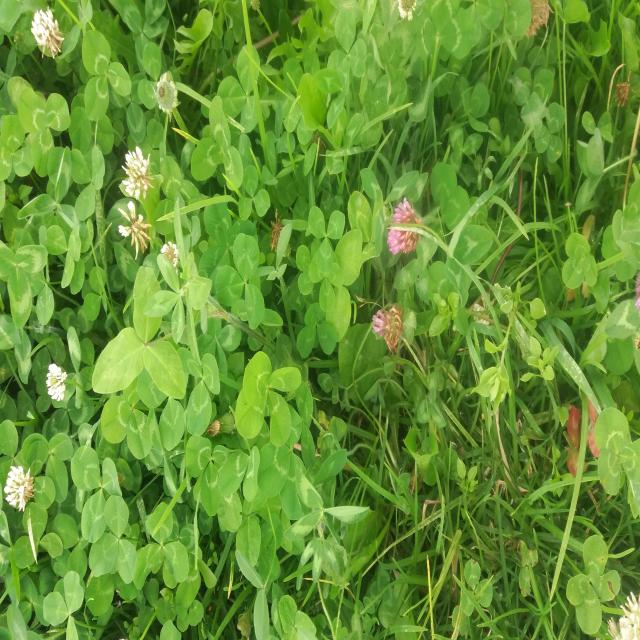Four Leaf Clover: (234, 351, 301, 447)
